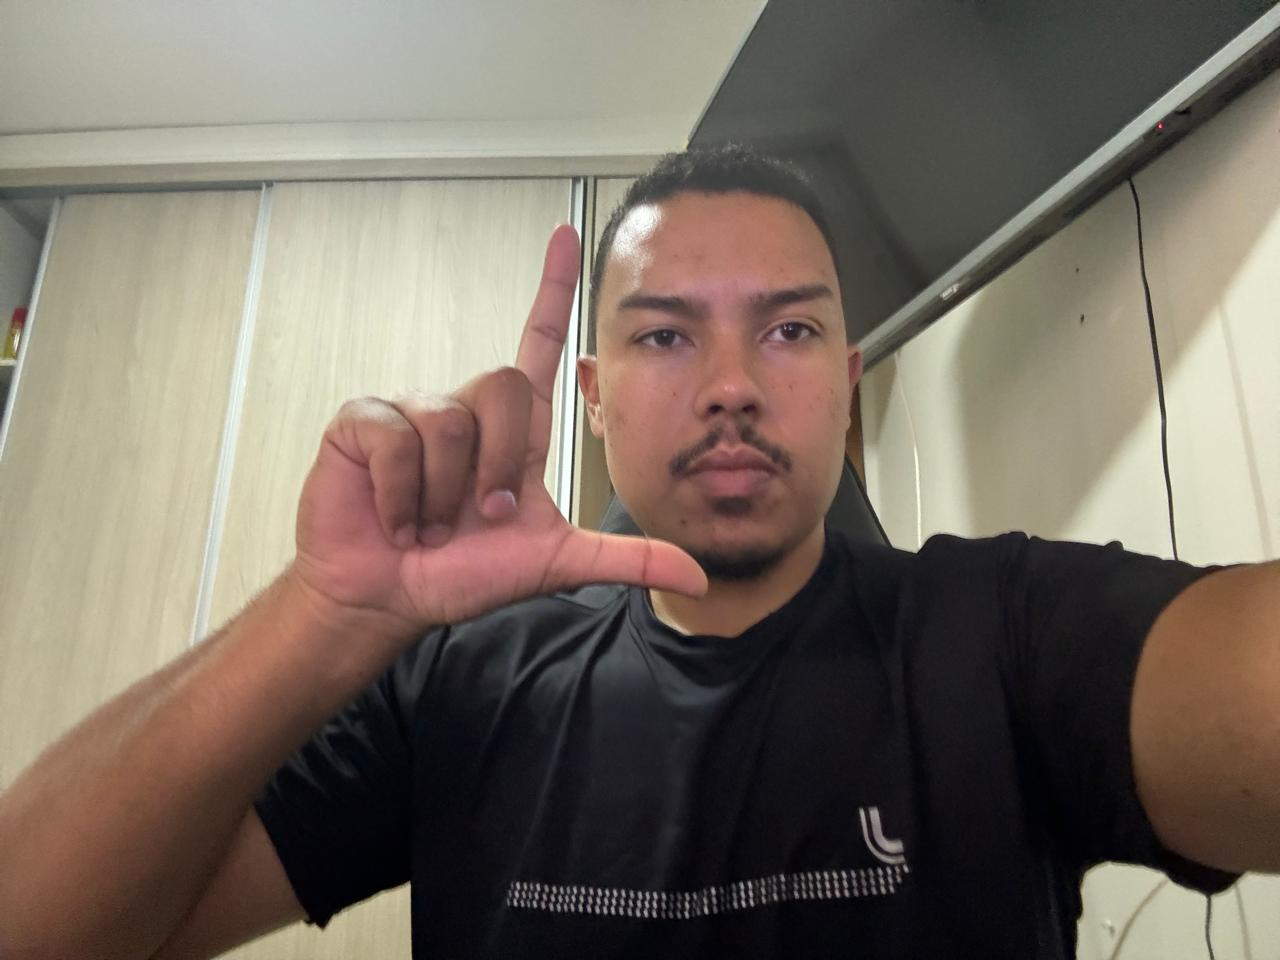l: (276, 211, 713, 658)
